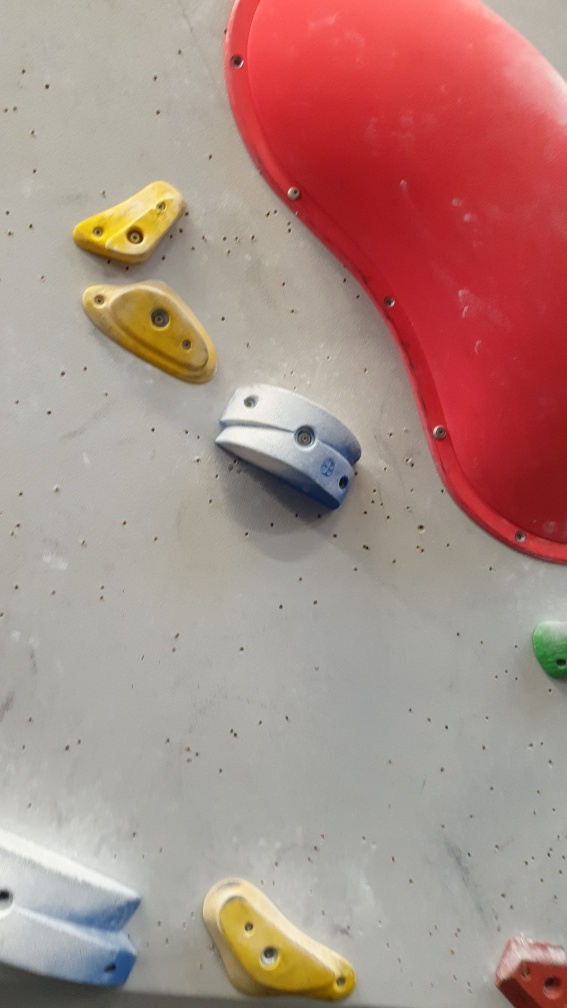Crimp: (101, 188, 188, 269)
Pinch: (1, 820, 144, 991), (215, 378, 368, 513)
